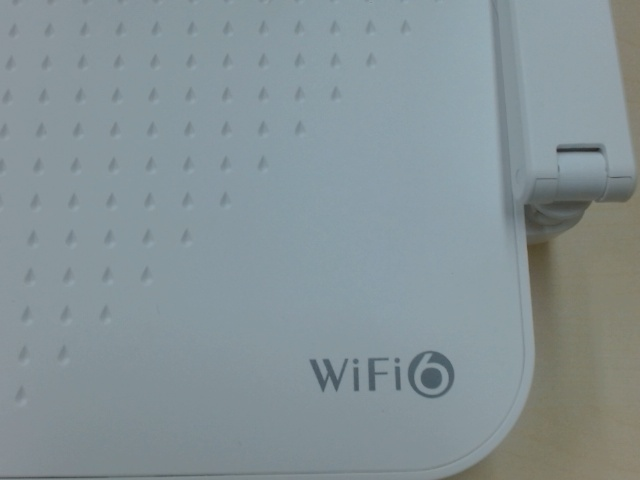AK_ZTEWIFI6: (303, 345, 466, 401)
